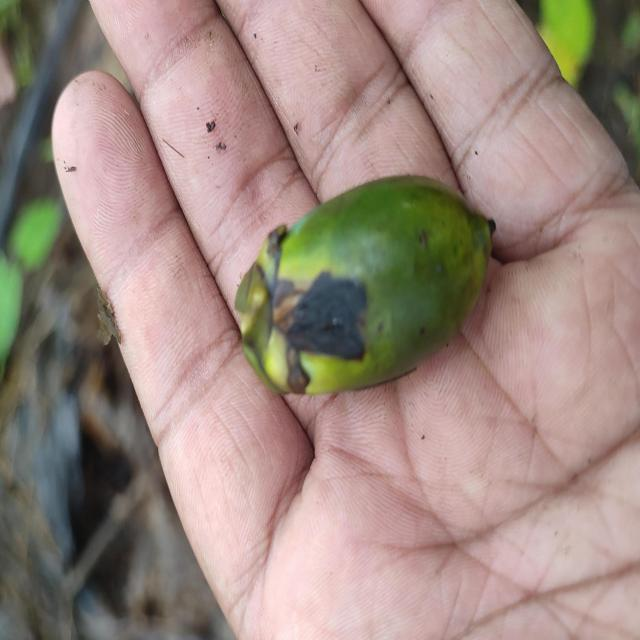damaged: (230, 175, 495, 397)
